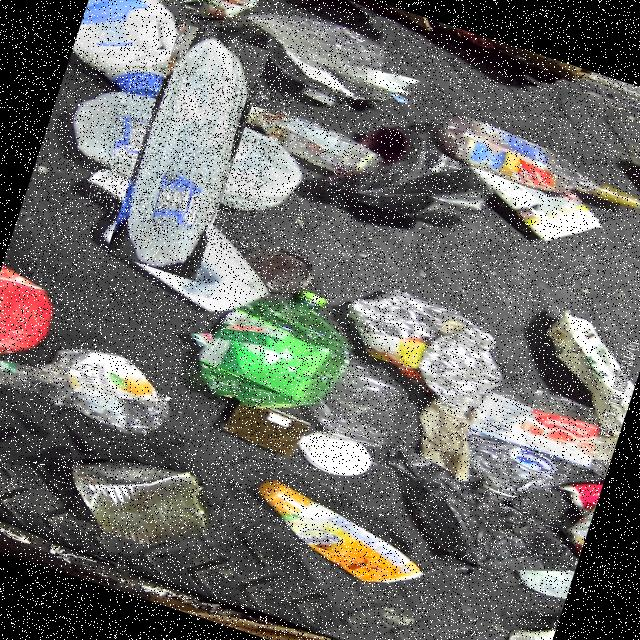milk-jug: (82, 46, 294, 258)
